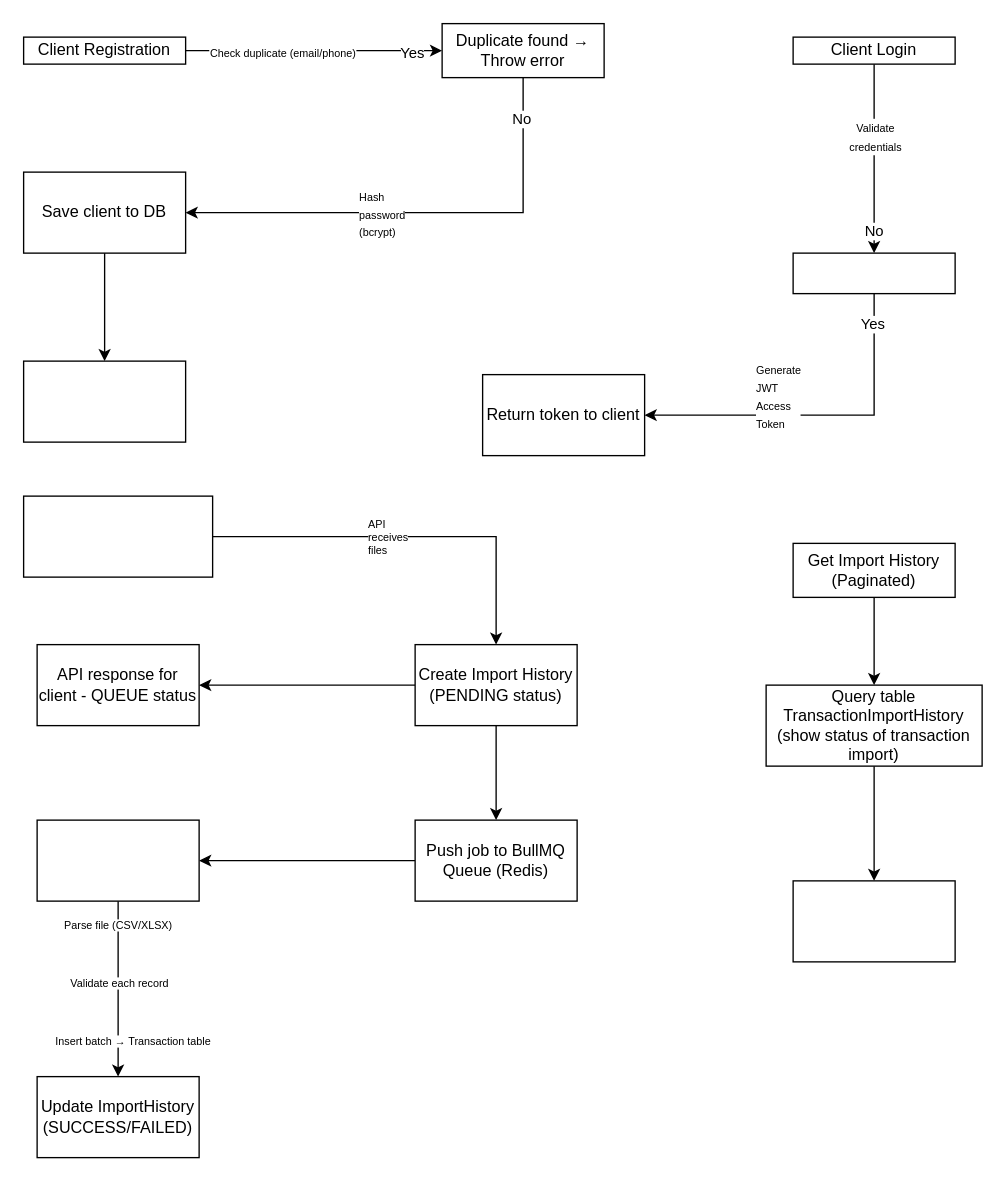
Image size: 1006x1181. Some labels were removed from this diagram. The box of each missing label's shape, as (x1, y1, x2, y2) in pixels:
Import multiple transaction files from customers: (22, 495, 213, 577)
Invalid → Error: (792, 252, 955, 294)
Return API Key & Client Info: (22, 360, 186, 442)
Return list + pagination metadata: (792, 880, 955, 962)
Worker (transaction-import.processor): (36, 819, 199, 901)
